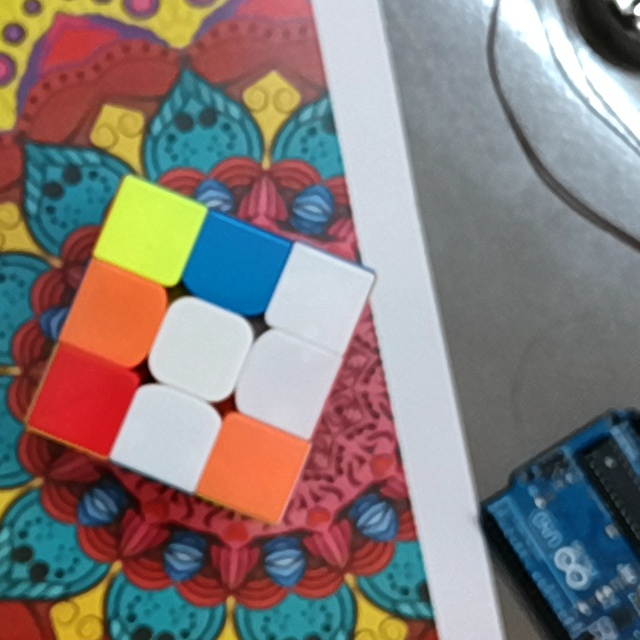tile: (222, 436, 287, 501), (51, 367, 116, 431), (255, 349, 318, 414), (133, 406, 200, 467), (169, 320, 233, 383), (86, 283, 148, 346), (205, 236, 267, 298), (290, 266, 352, 328), (117, 201, 181, 261)
